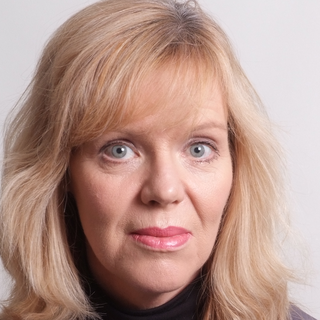eye: (181, 136, 226, 162), (97, 139, 143, 164)
